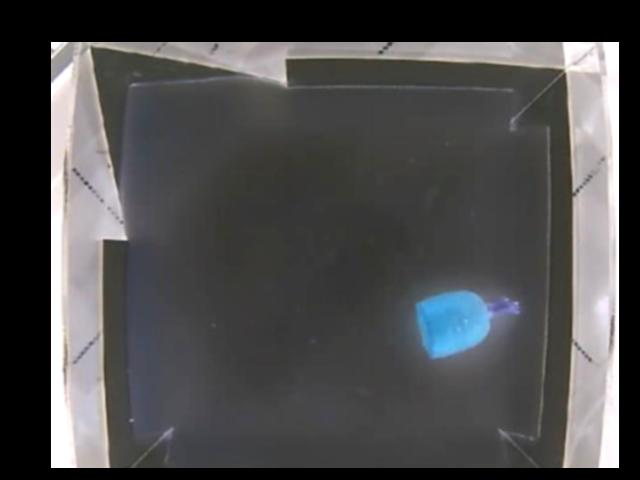Carrot: (416, 292, 521, 351)
